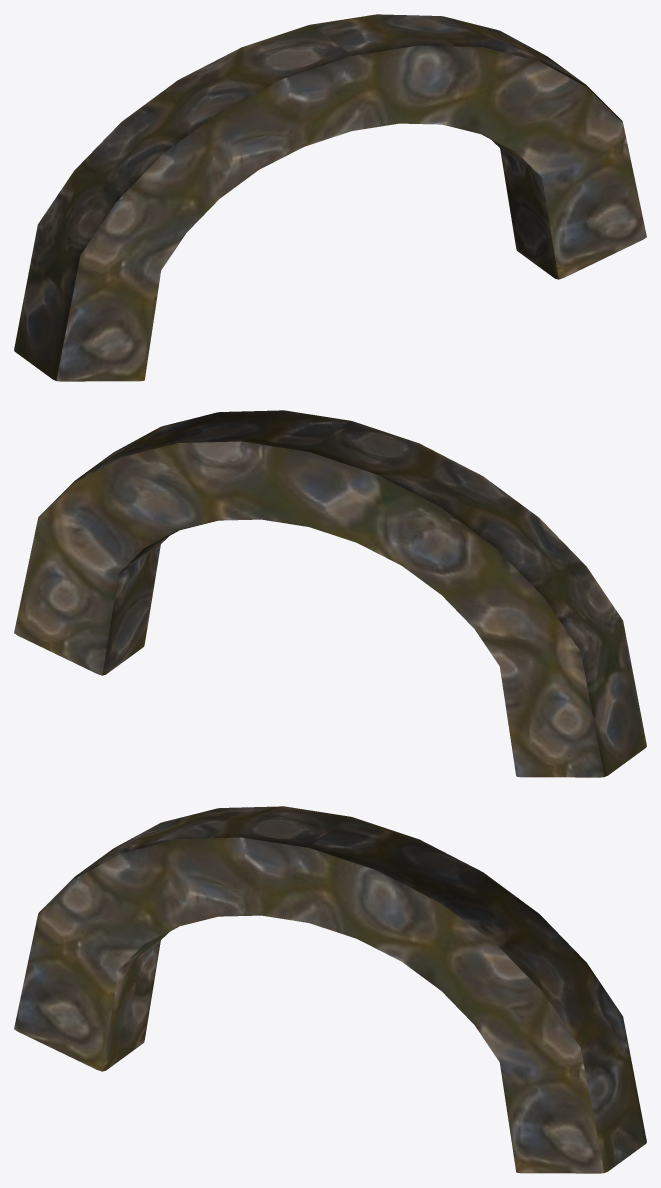
The model's file is puerta_parteAlta.obj.
3 renders of one model, top to bottom at view 1: azimuth 30°, elevation 25°; view 2: azimuth 150°, elevation 25°; view 3: azimuth 330°, elevation 25°, orthographic.
Parts seen in each view (by area): view 1: Object001; view 2: Object001; view 3: Object001.
Boxes of the visible parts, x1,y1,x2,y2 form: Object001: (14,14,646,381); Object001: (14,410,646,777); Object001: (14,806,646,1173).
Size of the model in its own units: 998 by 443 by 128.
Materials: 1 (1 with a texture image).
